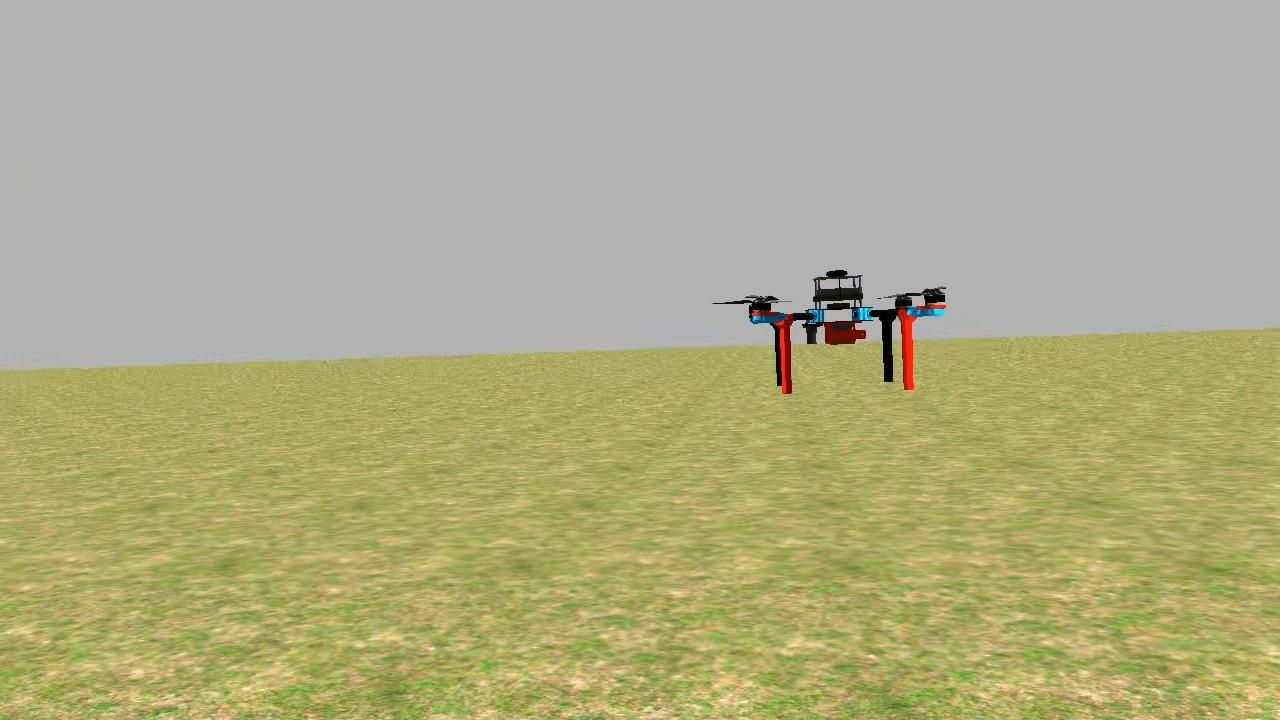UAV: (742, 260, 955, 398)
